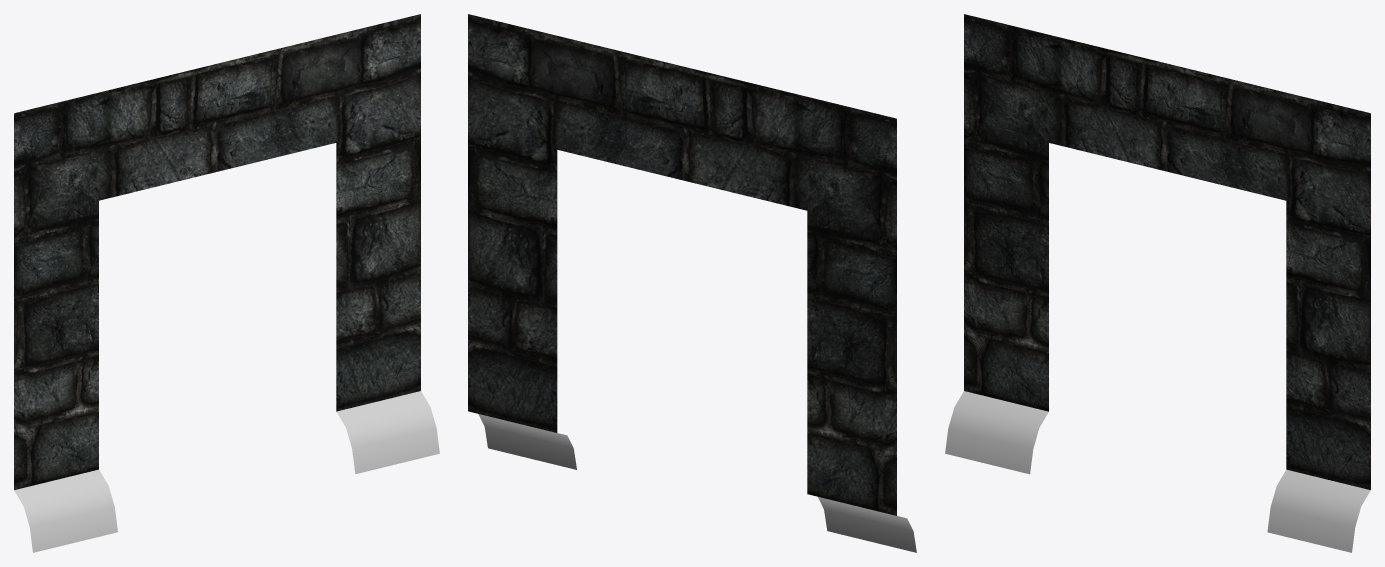
File: door_way_square_brick.dae
3 renders of one model, left to right at view 1: azimuth 30°, elevation 25°; view 2: azimuth 150°, elevation 25°; view 3: azimuth 330°, elevation 25°, orthographic. The views are drawn at different scales.
Visible parts, largest first — view 1: polySurface117, polySurface120; view 2: polySurface117, polySurface120; view 3: polySurface117, polySurface120.
Part boxes in pixels (left/top/right/bottom): polySurface117: left=14, top=14, right=420, bottom=489; polySurface120: left=14, top=391, right=439, bottom=552; polySurface117: left=468, top=14, right=896, bottom=515; polySurface120: left=478, top=414, right=916, bottom=552; polySurface117: left=964, top=14, right=1370, bottom=489; polySurface120: left=945, top=391, right=1370, bottom=552.
Size of what is drawn, in the model's own units: 400 by 400 by 32.19.
